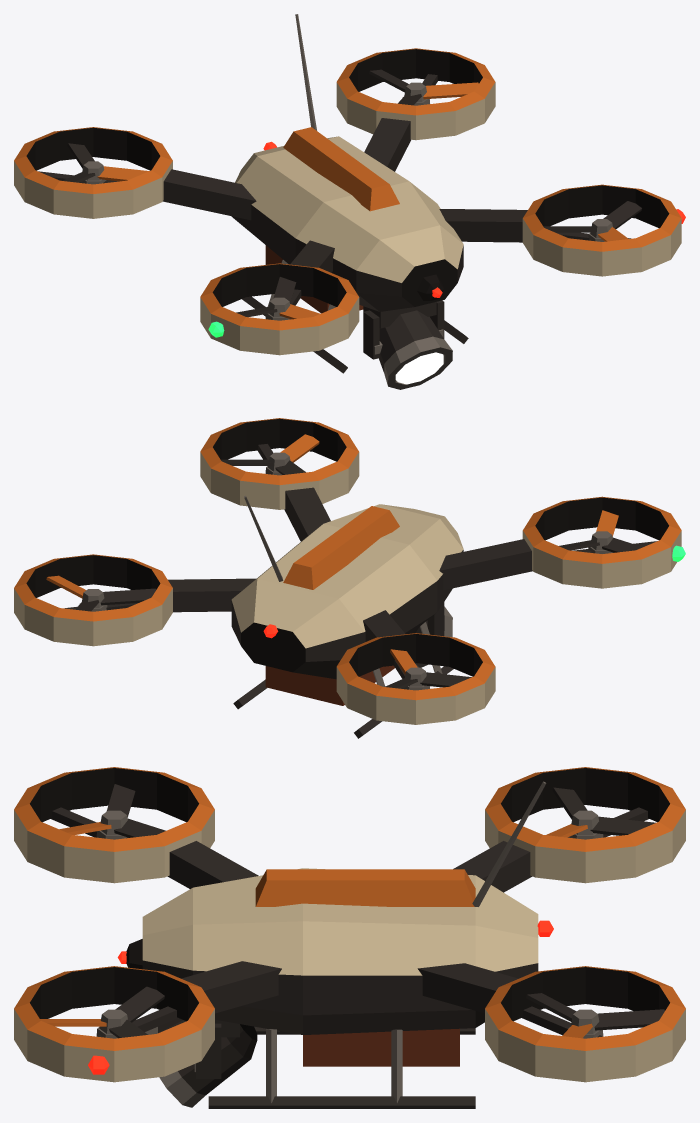
The model's file is drone.glb.
3 views of the same model, one above another, from view 1: azimuth 30°, elevation 25°; view 2: azimuth 150°, elevation 25°; view 3: azimuth 270°, elevation 25° (orthographic). The views are drawn at different scales.
Parts seen in each view (by area): view 1: Drone_Body, Drone_Rotor_3, Drone_Rotor_0, Drone_Rotor_2, Drone_Rotor_1; view 2: Drone_Body, Drone_Rotor_3, Drone_Rotor_0, Drone_Rotor_2, Drone_Rotor_1; view 3: Drone_Body, Drone_Rotor_3, Drone_Rotor_0, Drone_Rotor_2, Drone_Rotor_1.
Boxes of the visible parts, box(x1,y1,x2,y2) form: Drone_Body: box(14, 14, 685, 389); Drone_Rotor_3: box(369, 69, 478, 105); Drone_Rotor_0: box(543, 201, 641, 241); Drone_Rotor_2: box(62, 143, 148, 182); Drone_Rotor_1: box(236, 277, 320, 319); Drone_Body: box(14, 418, 685, 738); Drone_Rotor_3: box(46, 575, 155, 611); Drone_Rotor_0: box(221, 434, 319, 474); Drone_Rotor_2: box(385, 649, 471, 688); Drone_Rotor_1: box(559, 510, 642, 552); Drone_Body: box(14, 767, 685, 1108); Drone_Rotor_3: box(526, 993, 664, 1038); Drone_Rotor_0: box(40, 986, 164, 1038); Drone_Rotor_2: box(546, 787, 655, 837); Drone_Rotor_1: box(59, 784, 165, 837).
Size of the model in its own units: 2.2 by 1.18 by 2.14.
